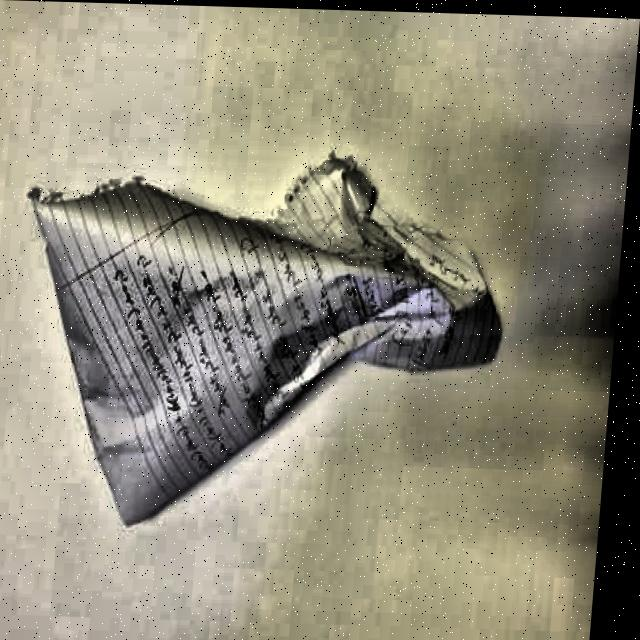paper: (0, 134, 519, 541)
